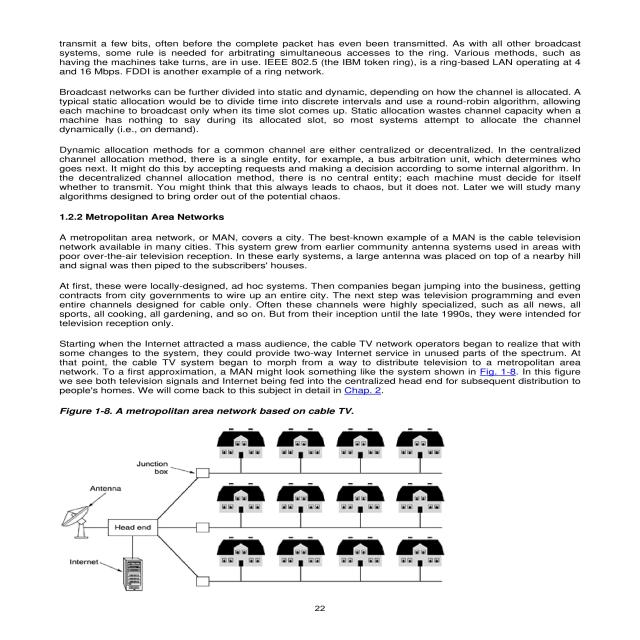diagram: (36, 400, 532, 616)
